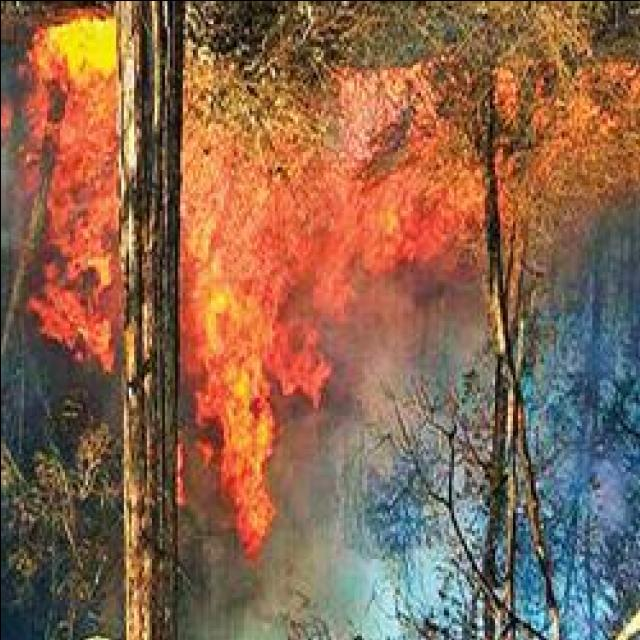fire: (12, 16, 124, 264), (203, 355, 277, 521), (192, 201, 248, 347), (46, 15, 116, 100)
